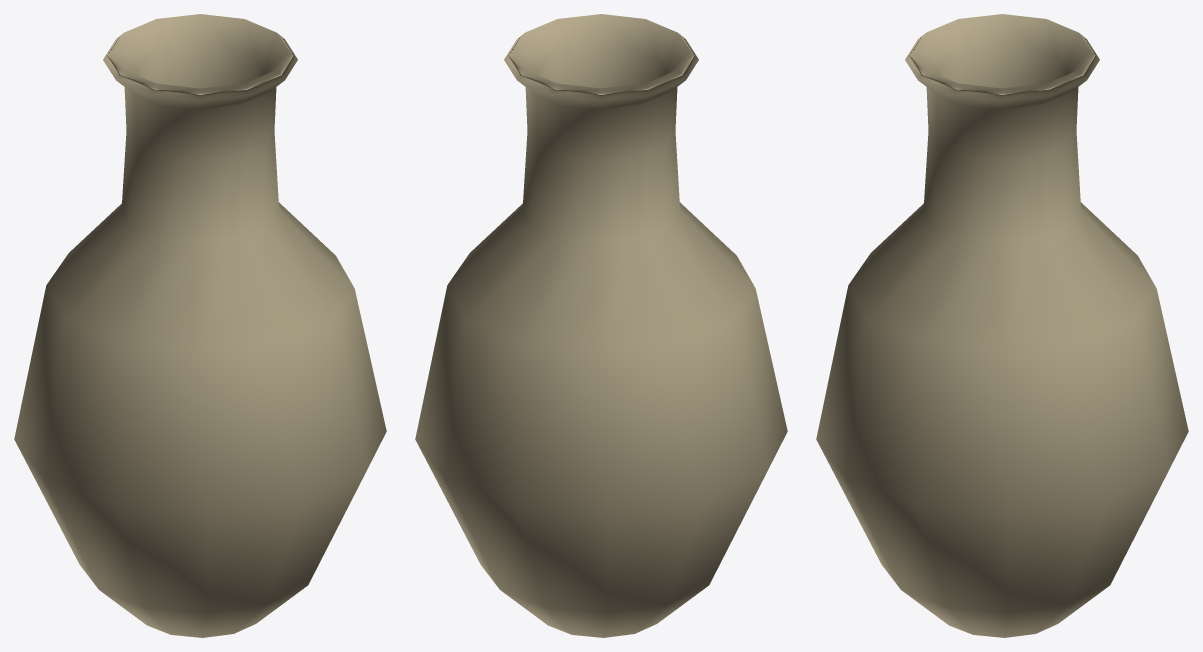
File: Vase1.fbx
3 renders of one model, left to right at view 1: azimuth 30°, elevation 25°; view 2: azimuth 150°, elevation 25°; view 3: azimuth 270°, elevation 25°, orthographic.
Parts seen in each view (by area): view 1: vase.034_vase.1262; view 2: vase.034_vase.1262; view 3: vase.034_vase.1262.
Boxes of the visible parts, box(x1,y1,x2,y2) form: vase.034_vase.1262: box(14, 14, 386, 637); vase.034_vase.1262: box(415, 14, 787, 637); vase.034_vase.1262: box(816, 14, 1188, 637).
Bounding box in the file's own units: 2.41 × 4 × 2.41.
